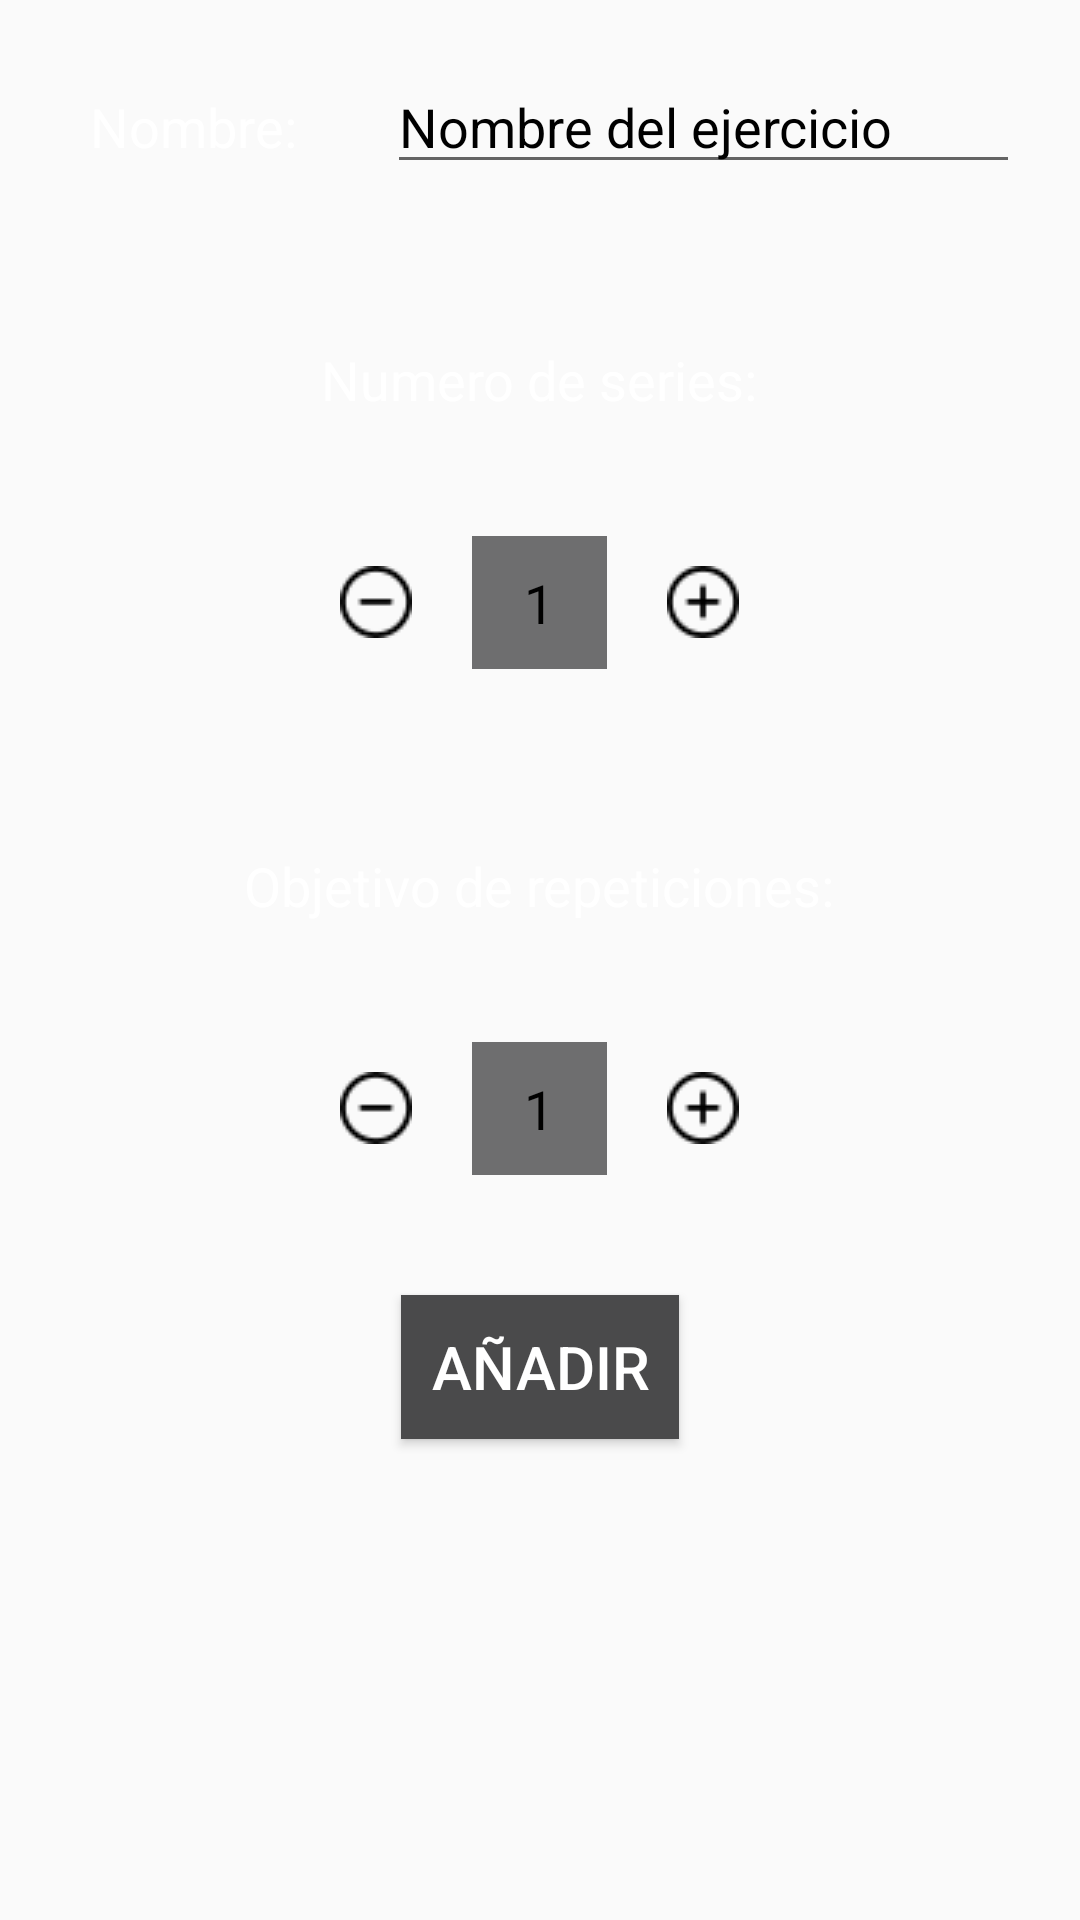

Screen size 1080 × 1920. Icon name, then its box in pixels as rect(x1, y1, x2, y2):
less: rect(340, 566, 412, 638), rect(340, 1072, 412, 1144)
plus: rect(667, 566, 739, 638), rect(667, 1072, 739, 1144)
